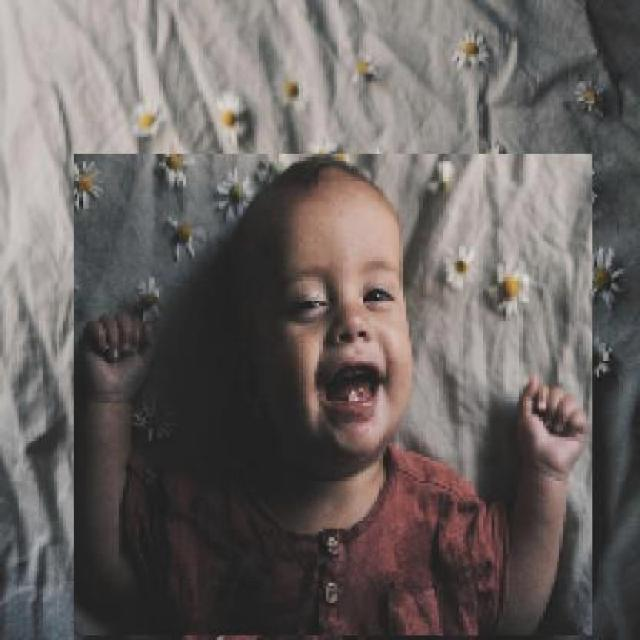child: (71, 154, 592, 637)
